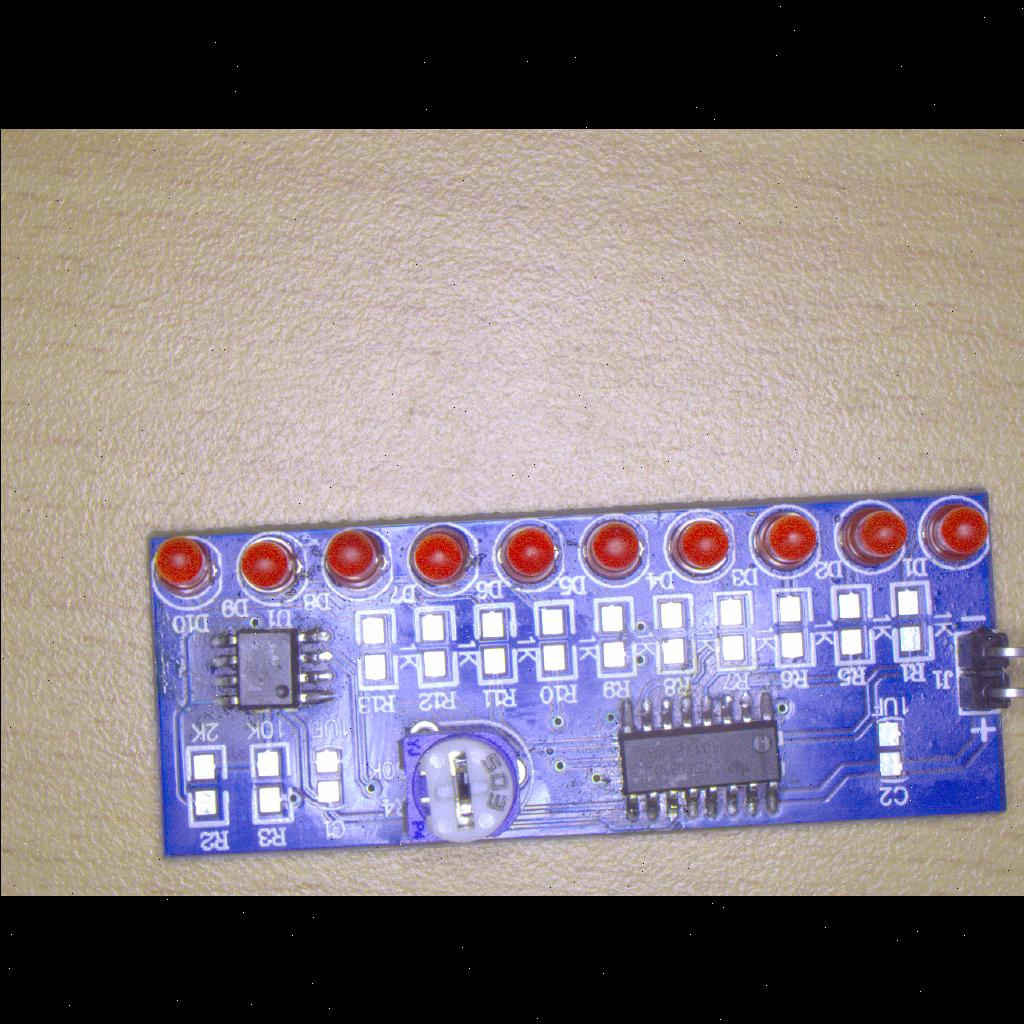NG: (466, 600, 526, 690), (240, 738, 296, 826), (884, 577, 938, 667), (180, 742, 234, 830), (410, 600, 460, 694), (826, 581, 878, 671), (770, 584, 820, 674), (708, 588, 760, 674), (588, 594, 640, 680), (530, 596, 582, 682), (350, 605, 400, 693), (650, 590, 698, 674), (862, 712, 914, 788), (304, 737, 350, 813)
OK: (606, 684, 788, 822), (200, 620, 338, 710)
